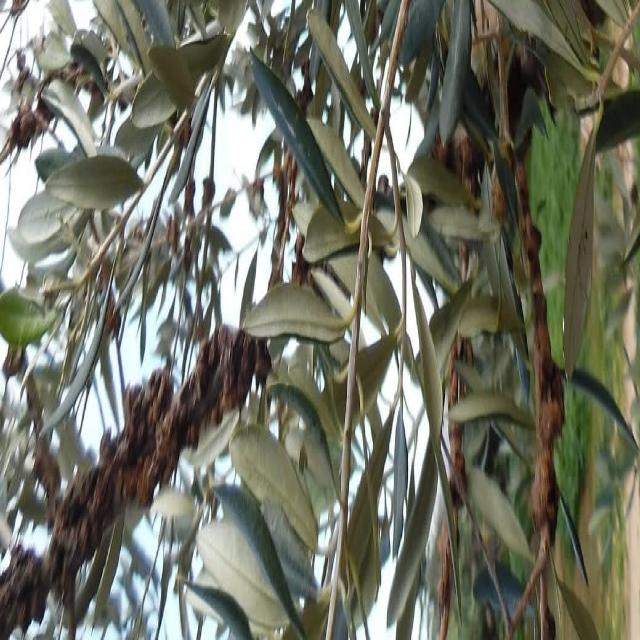Tuberculosis: (0, 324, 271, 639), (512, 150, 564, 557)
